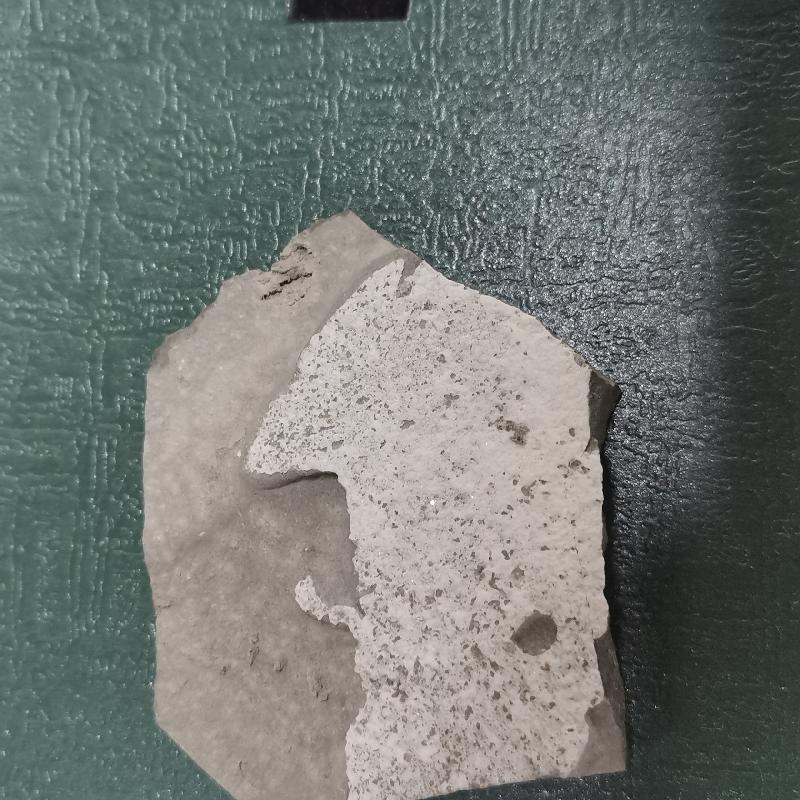tile: (107, 204, 637, 799)
